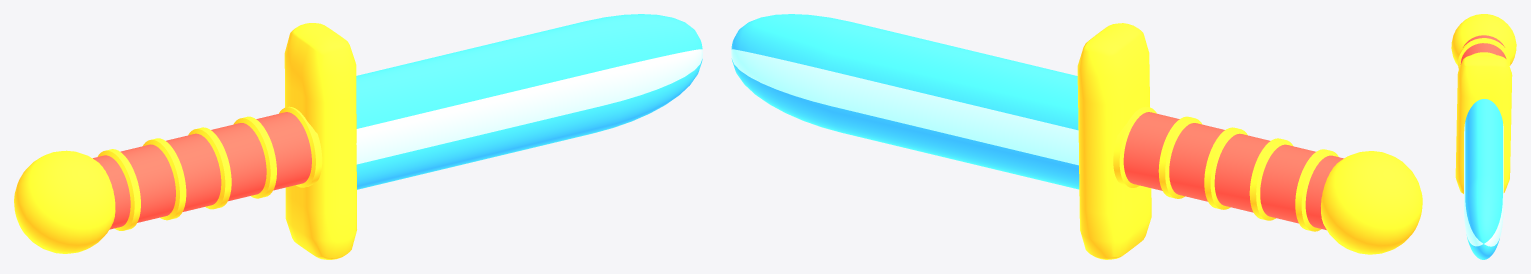
3 views of the same model, side by side, from view 1: azimuth 30°, elevation 25°; view 2: azimuth 150°, elevation 25°; view 3: azimuth 270°, elevation 25° (orthographic). The views are drawn at different scales.
Visible parts, largest first — view 1: FoamSword; view 2: FoamSword; view 3: FoamSword.
Part boxes in pixels (x1,y1,x2,y2): FoamSword: [14, 14, 702, 259]; FoamSword: [731, 14, 1422, 259]; FoamSword: [1451, 14, 1516, 259].
Bounding box in the file's own units: 6.07 × 1.87 × 0.7975.
